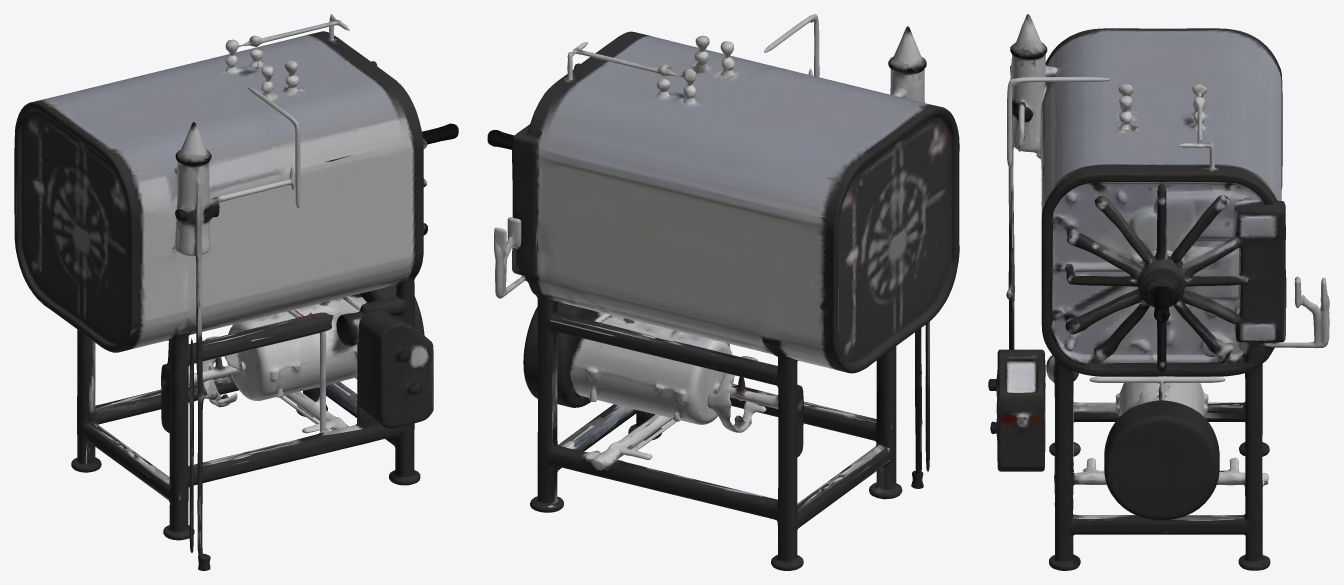
Rendered from Steam Sterilizer.glb.
3 views of the same model, side by side, from view 1: azimuth 30°, elevation 25°; view 2: azimuth 150°, elevation 25°; view 3: azimuth 270°, elevation 25° (orthographic). The views are drawn at different scales.
Visible parts, largest first — view 1: tripo_node_969f4623-8b5d-40b0-827a-d6f5cea94104; view 2: tripo_node_969f4623-8b5d-40b0-827a-d6f5cea94104; view 3: tripo_node_969f4623-8b5d-40b0-827a-d6f5cea94104.
Part boxes in pixels (bbox=[...]): tripo_node_969f4623-8b5d-40b0-827a-d6f5cea94104: bbox=[14, 14, 458, 570]; tripo_node_969f4623-8b5d-40b0-827a-d6f5cea94104: bbox=[487, 14, 959, 570]; tripo_node_969f4623-8b5d-40b0-827a-d6f5cea94104: bbox=[988, 14, 1329, 570].
Bounding box in the file's own units: 0.8434 × 0.9252 × 0.6344.
1 material, 1 textured.
